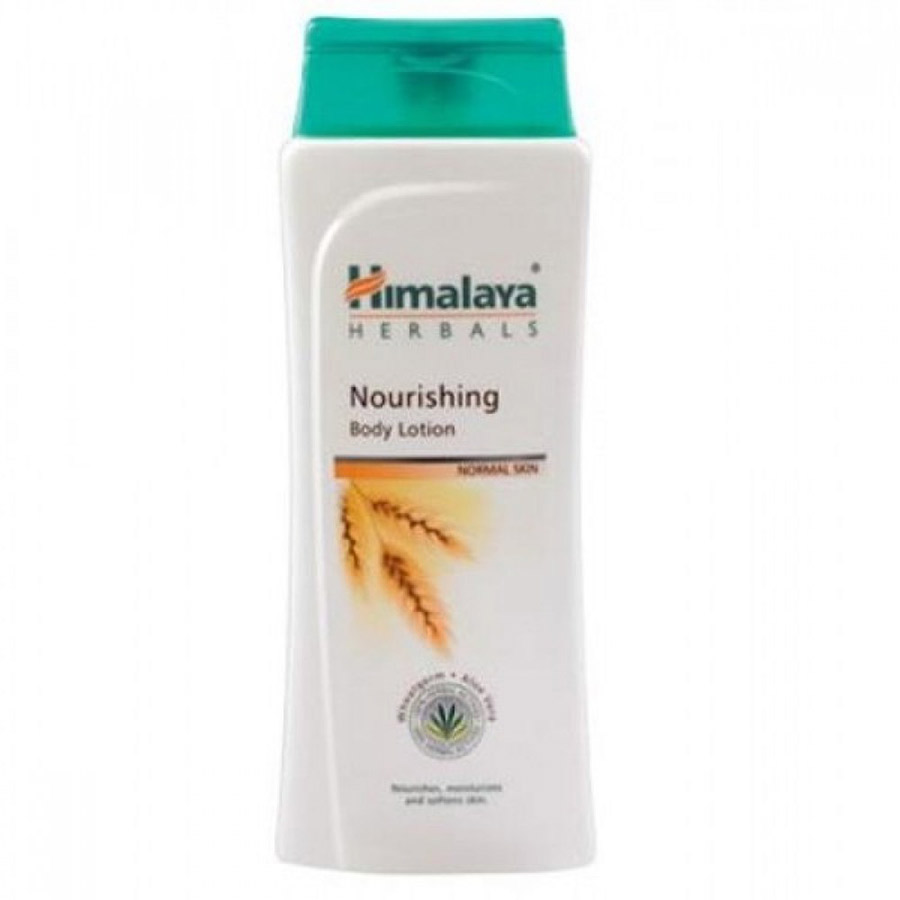Nonrec_Plastic: (265, 3, 609, 874)
